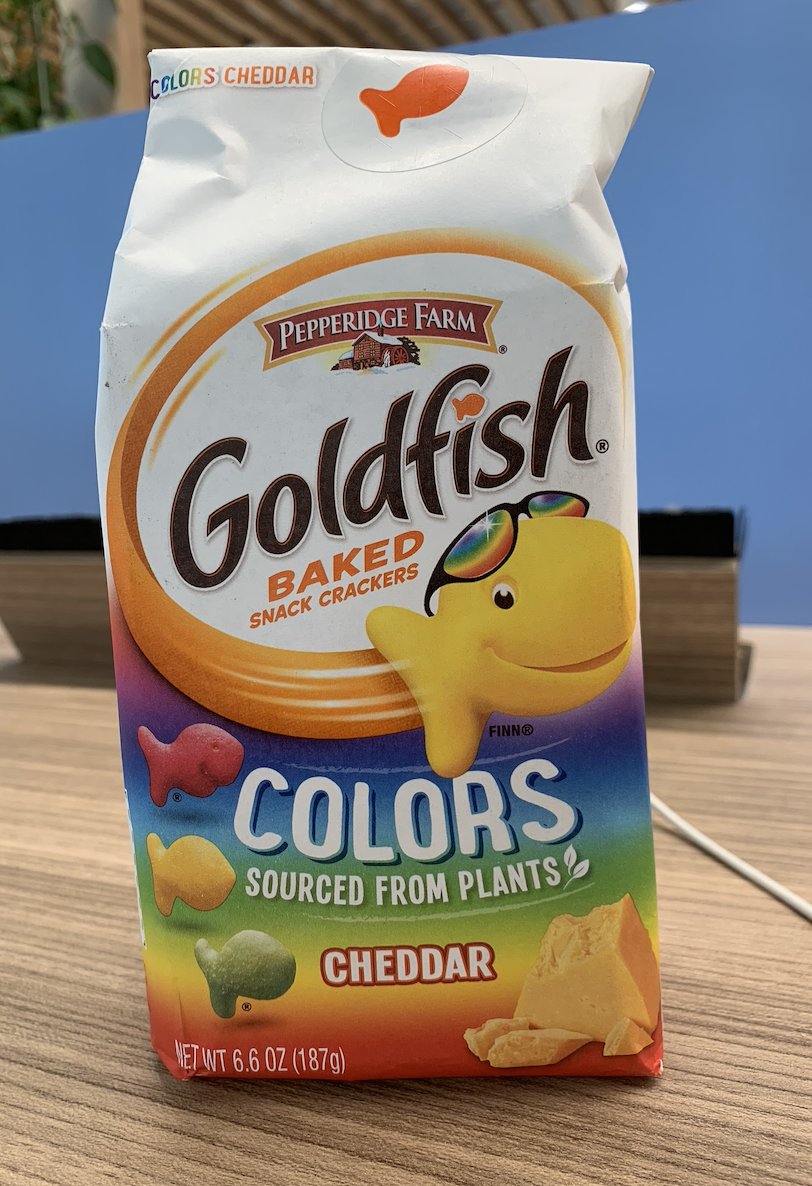crackers_150g: (140, 215, 632, 1080)
